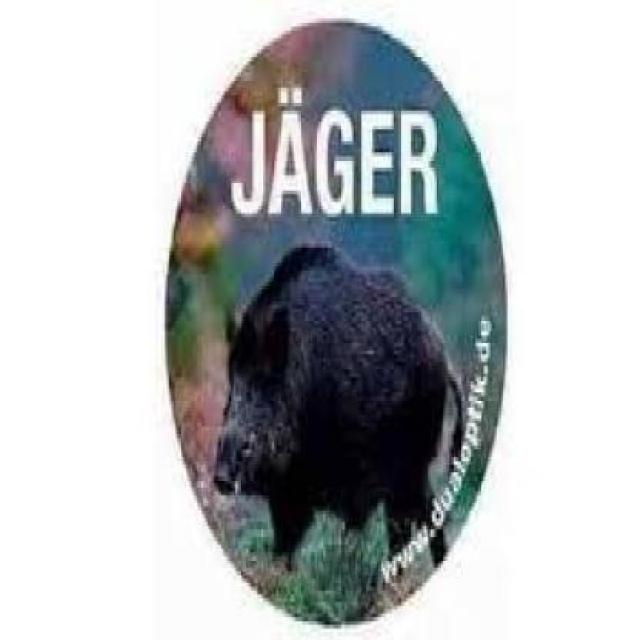wildboar: (212, 228, 468, 592)
